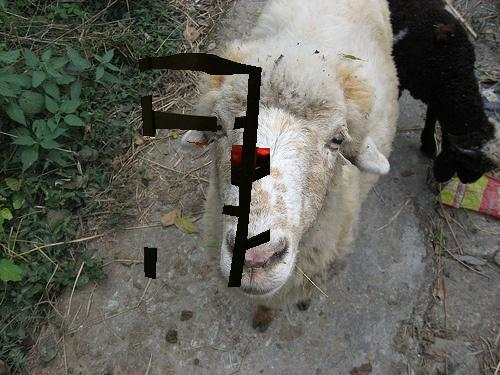tampered: (140, 54, 270, 287)
